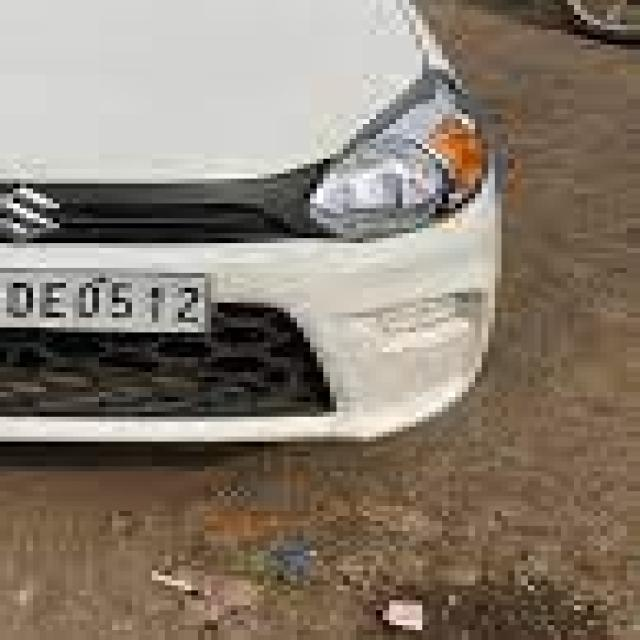car: (0, 0, 534, 476)
